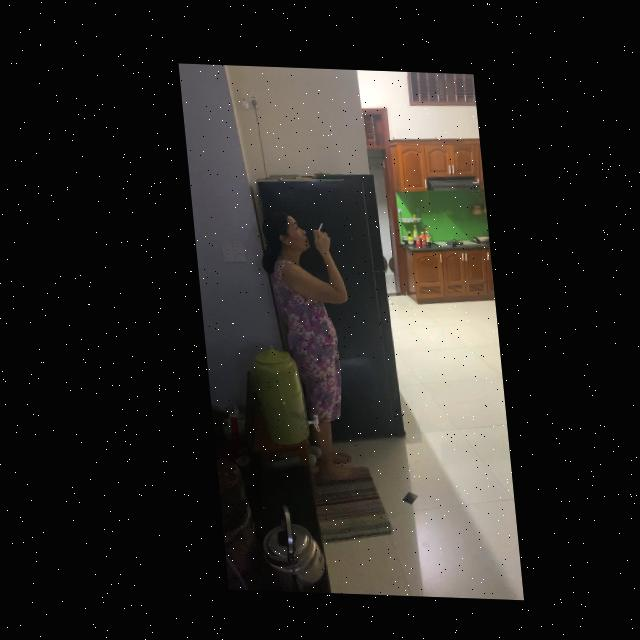cigarette: (312, 220, 319, 229)
